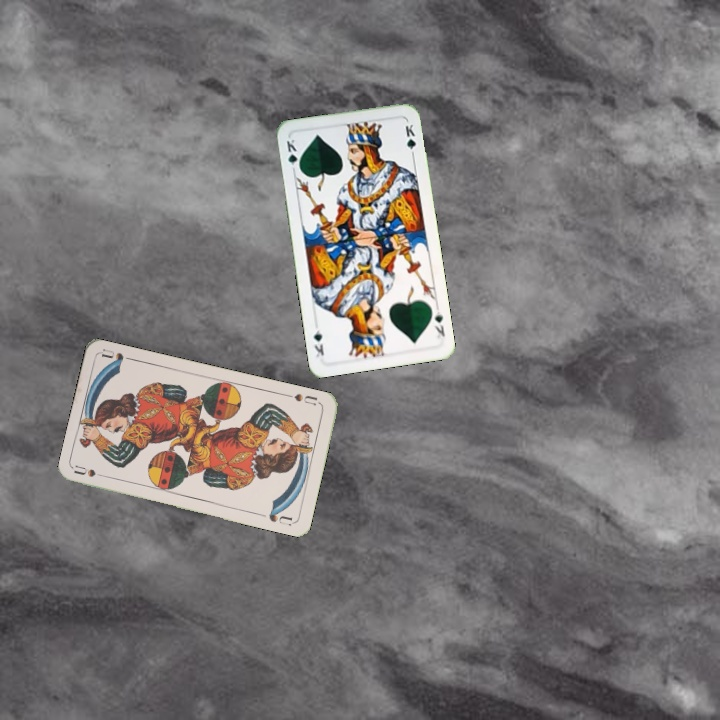GK: (282, 135, 303, 174), (430, 303, 447, 342)
SU: (71, 462, 112, 481), (283, 389, 320, 408)
